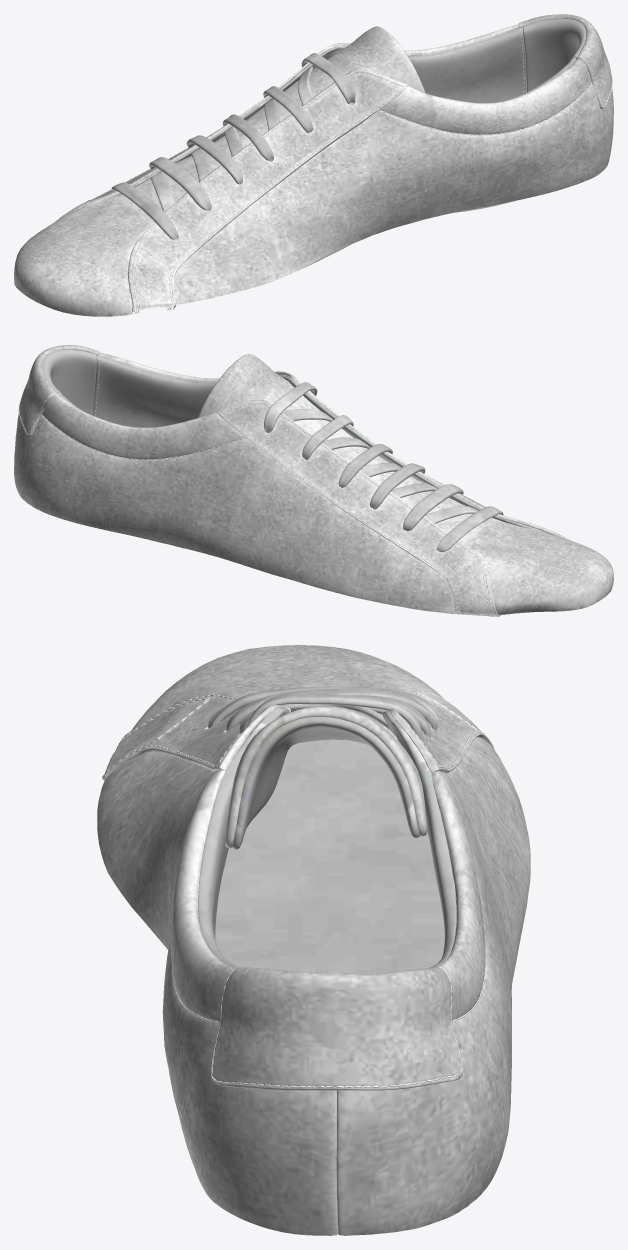
The model's file is shoe.glb.
3 views of the same model, one above another, from view 1: azimuth 30°, elevation 25°; view 2: azimuth 150°, elevation 25°; view 3: azimuth 270°, elevation 25° (orthographic). The views are drawn at different scales.
Visible parts, largest first — view 1: Object014, Object013, Object015, Object024, Object017, Object018, Object005, Object016; view 2: Object014, Object013, Object016, Object024, Object017, Object018, Object005, Object015; view 3: Object014, Object019, Object018, Object013, Object024, Object015, Object025, Object017, Object016, Object005.
Boxes of the visible parts, left/top/right/bottom form: Object014: left=174, top=24, right=613, bottom=304; Object013: left=14, top=26, right=425, bottom=316; Object015: left=128, top=69, right=407, bottom=311; Object024: left=100, top=19, right=586, bottom=201; Object017: left=111, top=53, right=355, bottom=239; Object018: left=518, top=14, right=612, bottom=108; Object005: left=55, top=22, right=612, bottom=313; Object016: left=57, top=43, right=350, bottom=220; Object014: left=14, top=352, right=497, bottom=615; Object013: left=198, top=354, right=613, bottom=614; Object016: left=216, top=400, right=497, bottom=614; Object024: left=42, top=349, right=546, bottom=616; Object017: left=264, top=382, right=503, bottom=551; Object018: left=19, top=345, right=99, bottom=437; Object005: left=18, top=350, right=563, bottom=616; Object015: left=274, top=371, right=569, bottom=540; Object014: left=97, top=737, right=530, bottom=1235; Object019: left=201, top=739, right=456, bottom=973; Object018: left=210, top=967, right=463, bottom=1090; Object013: left=132, top=645, right=443, bottom=848; Object024: left=198, top=707, right=456, bottom=973; Object015: left=102, top=691, right=282, bottom=781; Object025: left=231, top=716, right=420, bottom=849; Object017: left=208, top=686, right=439, bottom=743; Object016: left=389, top=690, right=494, bottom=773; Object005: left=102, top=691, right=492, bottom=1087.
Bounding box in the file's own units: 0.2932 × 0.0822 × 0.0969.
Materials: 1 (1 with a texture image).
